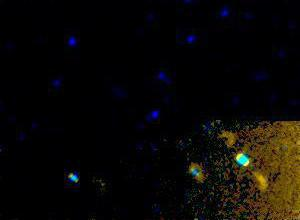star: (247, 165, 277, 195)
